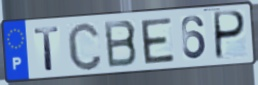6: (180, 14, 208, 62)
B: (102, 19, 140, 70)
C: (66, 21, 104, 73)
E: (139, 16, 177, 66)
P: (214, 9, 248, 62)
T: (32, 25, 61, 73)
